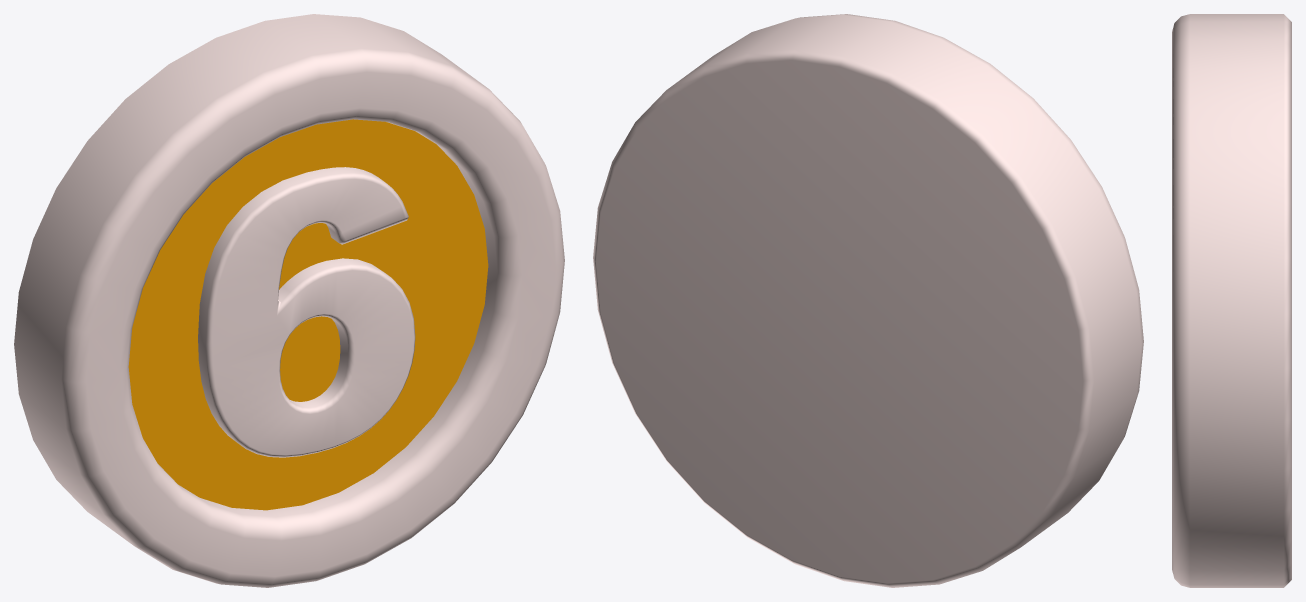
Rendered from City_20_Number_House_6.glb.
3 renders of one model, left to right at view 1: azimuth 30°, elevation 25°; view 2: azimuth 150°, elevation 25°; view 3: azimuth 270°, elevation 25°, orthographic.
Parts seen in each view (by area): view 1: City_20_Number_House_6; view 2: City_20_Number_House_6; view 3: City_20_Number_House_6.
Boxes of the visible parts, box(x1,y1,x2,y2) form: City_20_Number_House_6: box(14, 14, 564, 587); City_20_Number_House_6: box(593, 14, 1143, 587); City_20_Number_House_6: box(1172, 14, 1291, 587).
Bounding box in the file's own units: 0.5101 × 0.5101 × 0.1065.
1 material, 1 textured.
